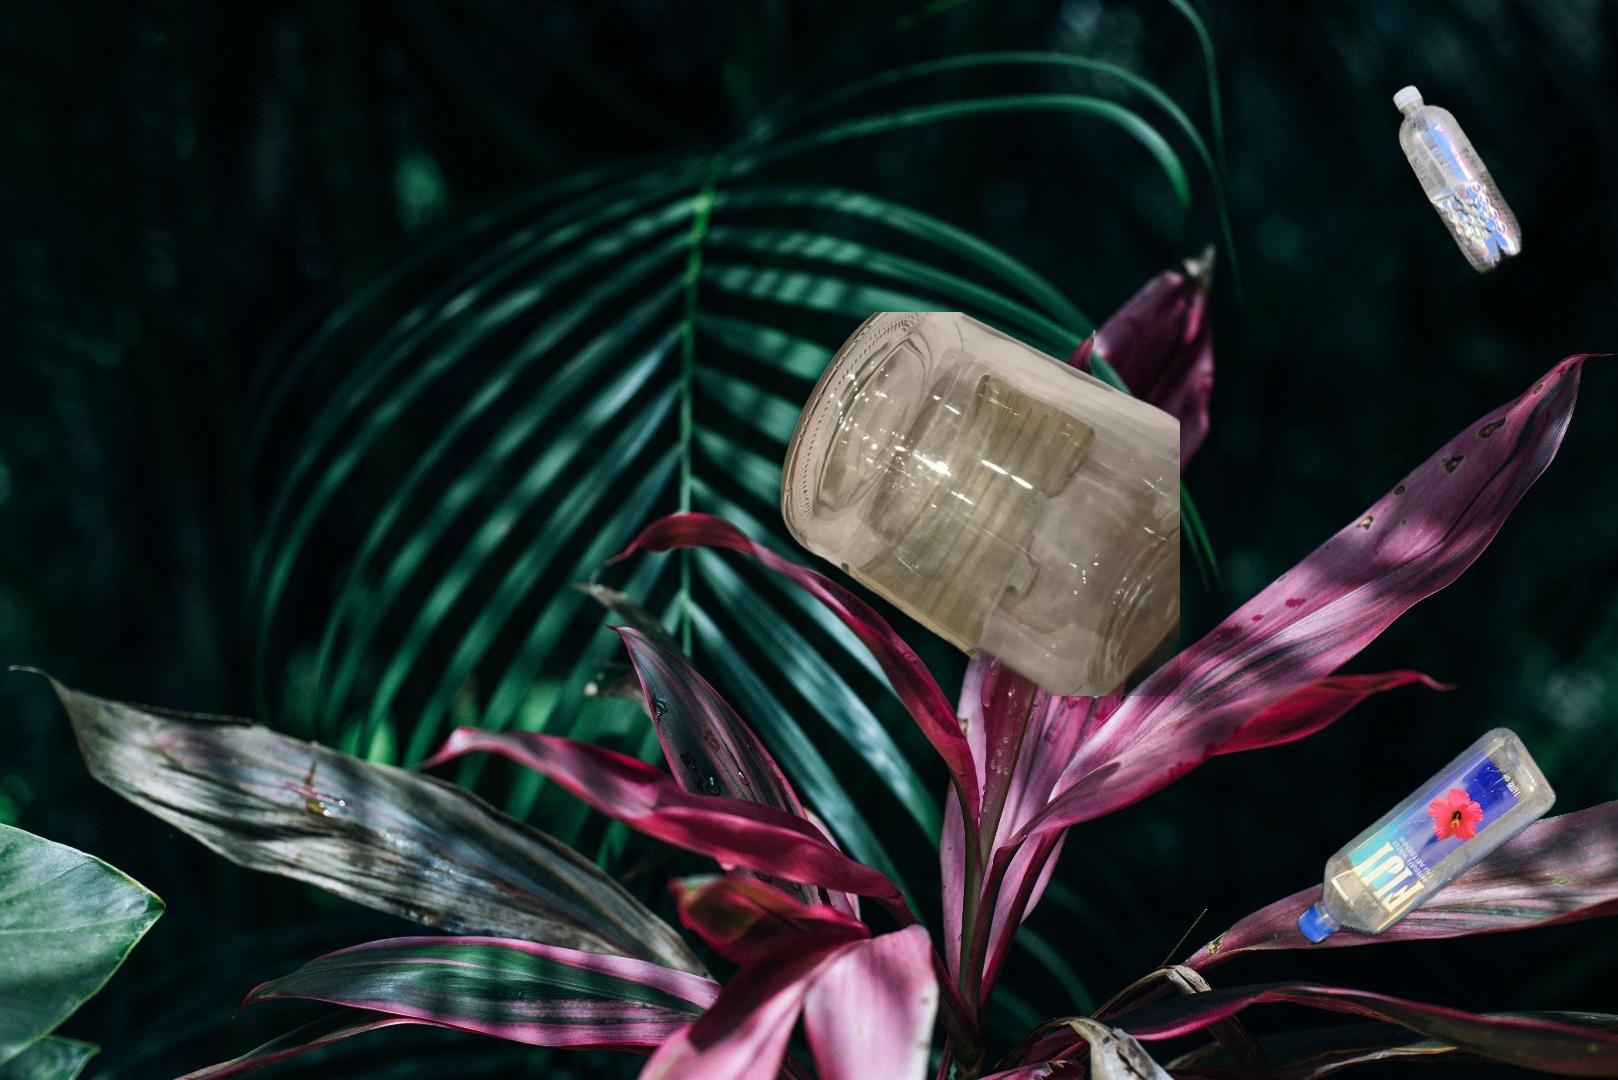glass: (776, 312, 1179, 695)
plastic-bottles: (1293, 721, 1561, 950), (1389, 80, 1532, 281)
